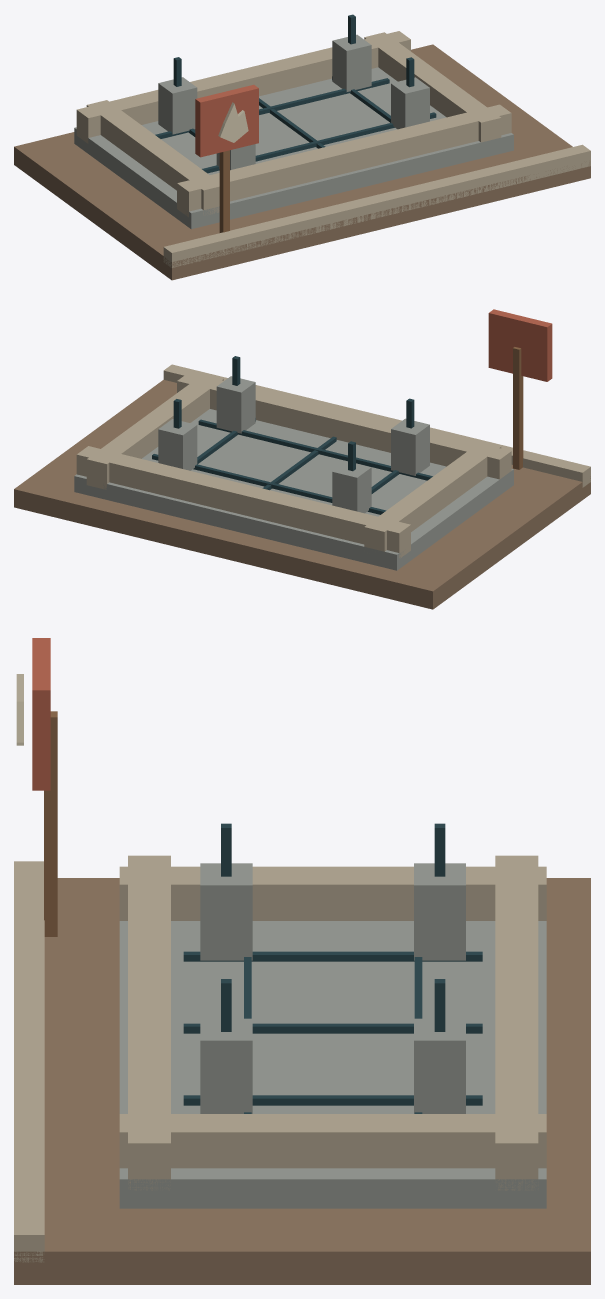
File: fire-station-sunrise-foundation.glb
3 renders of one model, top to bottom at view 1: azimuth 30°, elevation 25°; view 2: azimuth 150°, elevation 25°; view 3: azimuth 270°, elevation 25°, orthographic. The views are drawn at different scales.
Parts seen in each view (by area): view 1: fire-station; view 2: fire-station; view 3: fire-station.
Part boxes in pixels (x1,y1,x2,y2): fire-station: [14, 14, 590, 280]; fire-station: [14, 309, 590, 609]; fire-station: [14, 638, 590, 1284].
Size of the model in its own units: 2.88 by 1.09 by 1.88.
